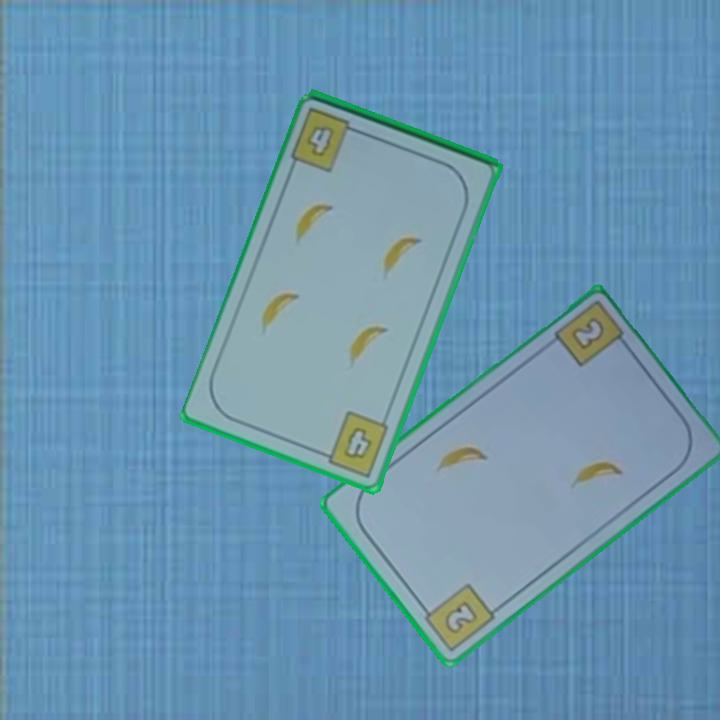2b: (415, 580, 499, 654), (567, 314, 608, 354)
4b: (287, 104, 366, 175), (316, 407, 392, 480)
